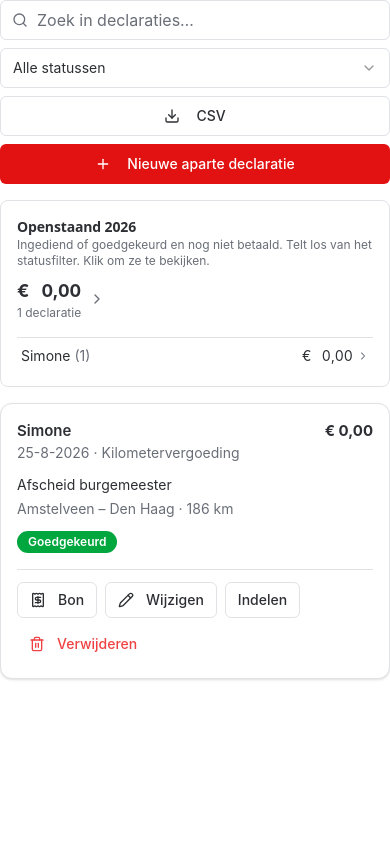
Scenario: InternalDeclarationsView open totaal › Wijzigen staat ook in het openstaande-venster
The width and height of the screenshot is (390, 844).
Click the button with aria-label "Bekijk openstaande declaraties".
click(195, 269)  # box [1,201,389,337]
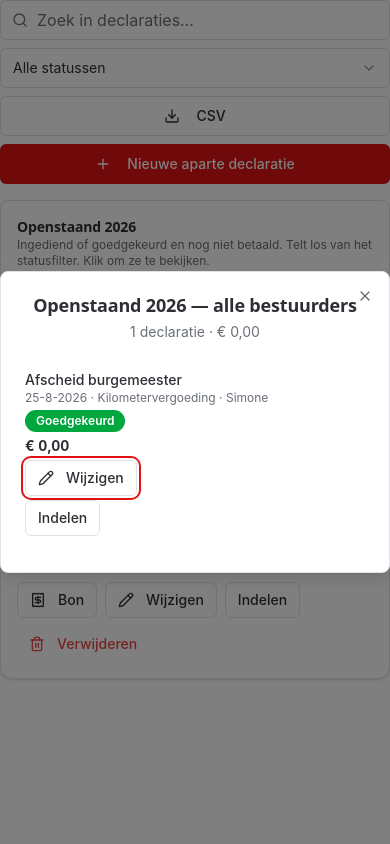
expect the list with test id "drill-list" is shown: met, box [25,371,268,536]
expect the button "Wijzigen" is shown: met, box [25,460,137,496]
